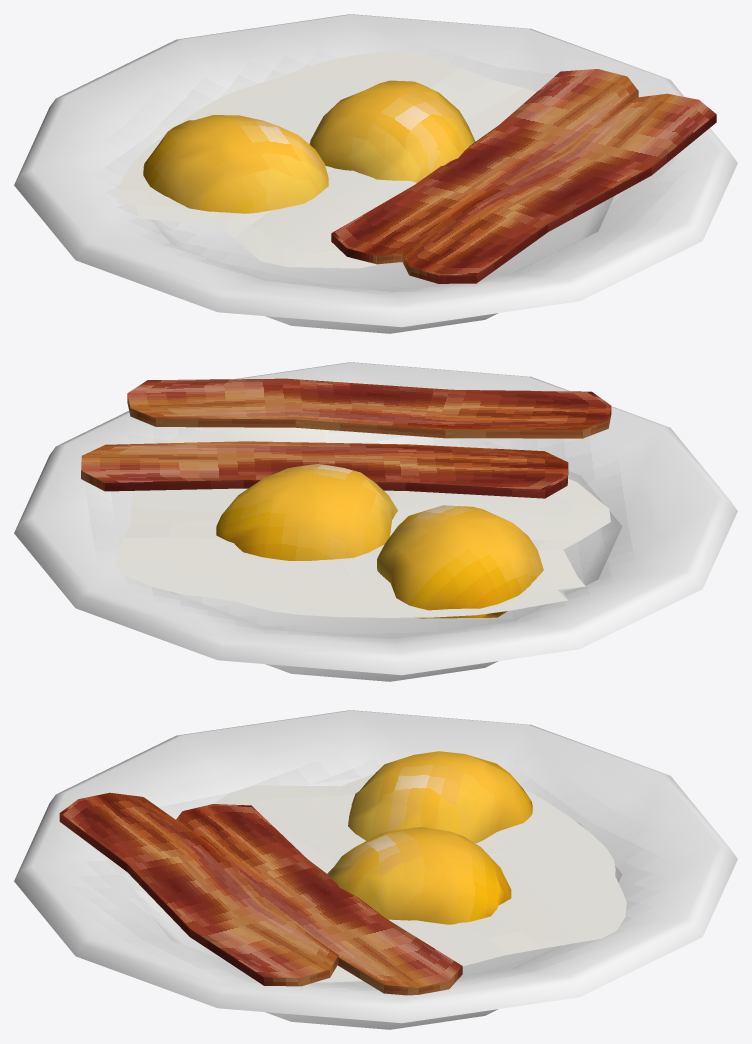
The model's file is Plate_BaconEggs.fbx.
3 views of the same model, one above another, from view 1: azimuth 30°, elevation 25°; view 2: azimuth 150°, elevation 25°; view 3: azimuth 270°, elevation 25° (orthographic).
Parts seen in each view (by area): view 1: FriedEgg.001; view 2: FriedEgg.001; view 3: FriedEgg.001.
Boxes of the visible parts, left/top/right/bottom form: FriedEgg.001: left=14, top=14, right=737, bottom=333; FriedEgg.001: left=14, top=362, right=737, bottom=681; FriedEgg.001: left=14, top=710, right=737, bottom=1029.
Bounding box in the file's own units: 36.72 × 7.44 × 36.72.
